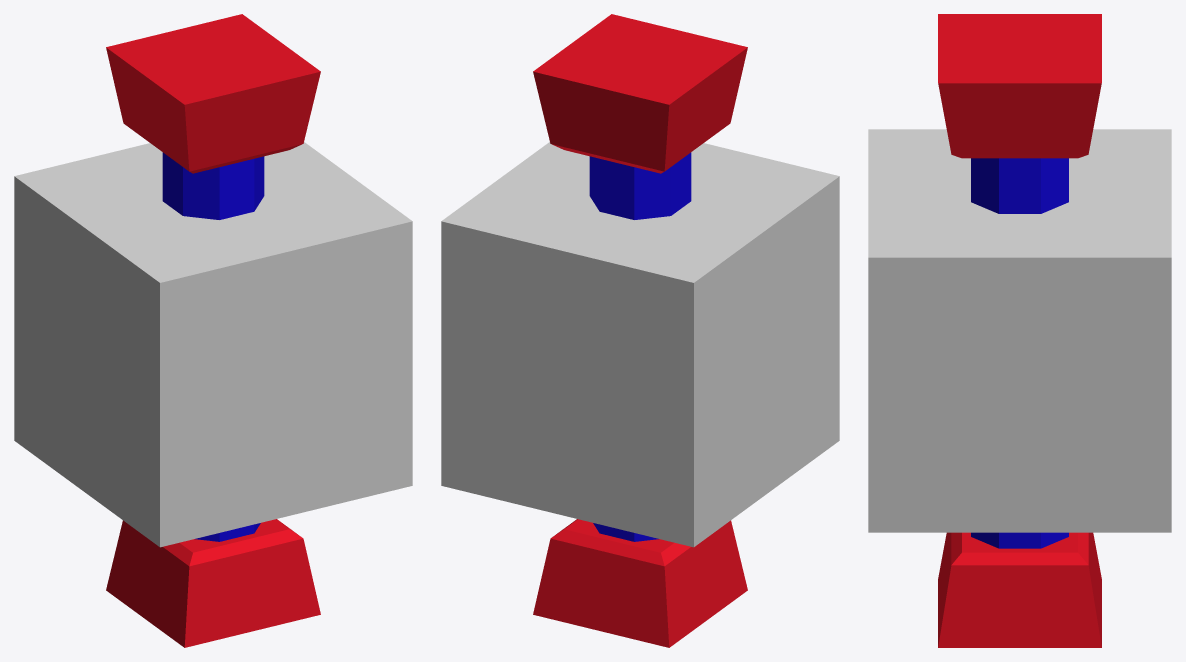
File: pilier.fbx
The picture shows the model from 3 angles, left to right: view 1: azimuth 30°, elevation 25°; view 2: azimuth 150°, elevation 25°; view 3: azimuth 270°, elevation 25°; orthographic projection. The views are drawn at different scales.
Visible parts, largest first — view 1: Cube, Cube.001; view 2: Cube, Cube.001; view 3: Cube, Cube.001.
Part boxes in pixels (x1,y1,x2,y2): Cube: (14, 142, 412, 547); Cube.001: (106, 14, 320, 647); Cube: (441, 142, 839, 547); Cube.001: (533, 14, 747, 647); Cube: (868, 129, 1171, 532); Cube.001: (938, 14, 1101, 647).
Size of the model in its own units: 200 by 411 by 200.
